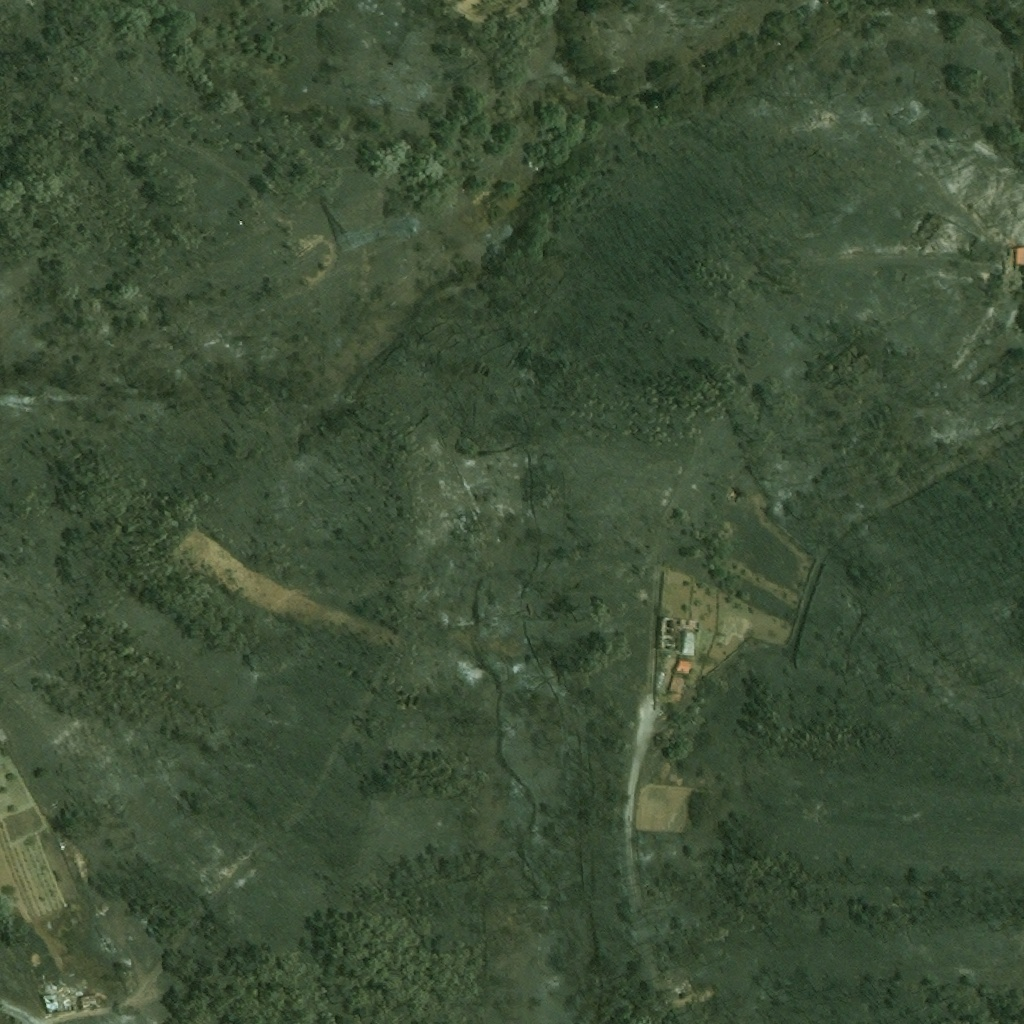1 minor-damage: (681, 632, 695, 656), (668, 676, 685, 695), (675, 660, 692, 675)
3 destroyed: (42, 989, 103, 1015), (658, 617, 700, 651)
4 un-classified: (1011, 248, 1023, 266)
